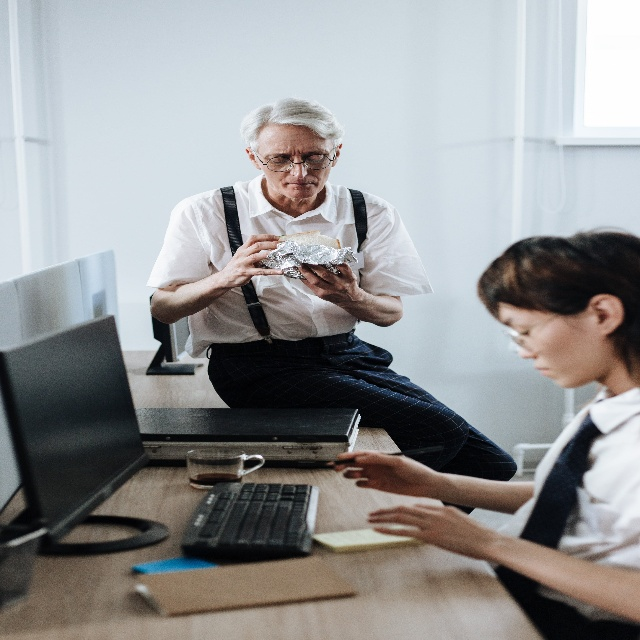Gafas: (502, 311, 557, 352), (252, 149, 336, 172)
Sin_guantes: (366, 502, 492, 560), (334, 450, 436, 498), (222, 233, 284, 289), (297, 260, 359, 311)
